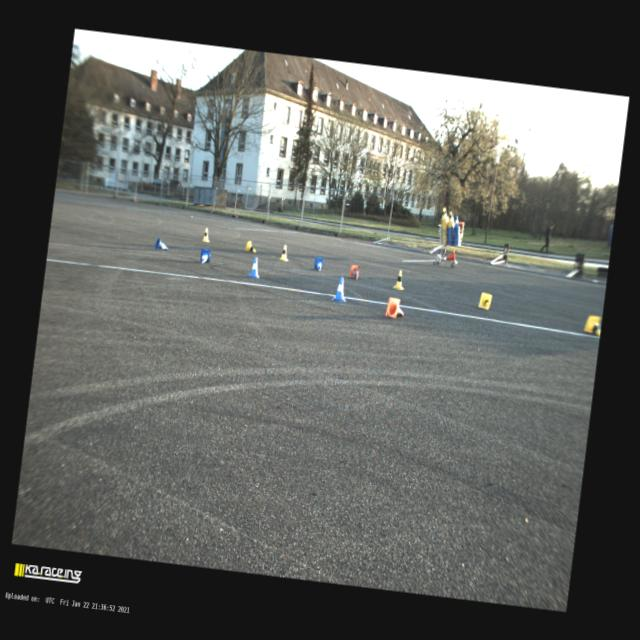blue_cone: (331, 276, 349, 302), (248, 256, 262, 278), (154, 236, 169, 252), (199, 248, 211, 264), (314, 256, 324, 272)
orange_cone: (384, 297, 404, 319), (348, 264, 359, 280)
yellow_cone: (583, 314, 602, 336), (392, 270, 406, 290), (478, 291, 492, 310), (278, 244, 290, 261), (244, 240, 256, 253), (202, 227, 210, 242)
